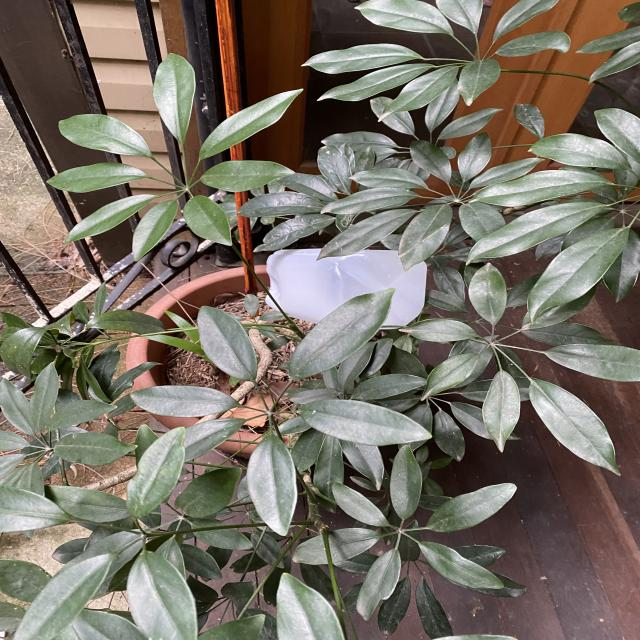bottle: (266, 248, 428, 330)
